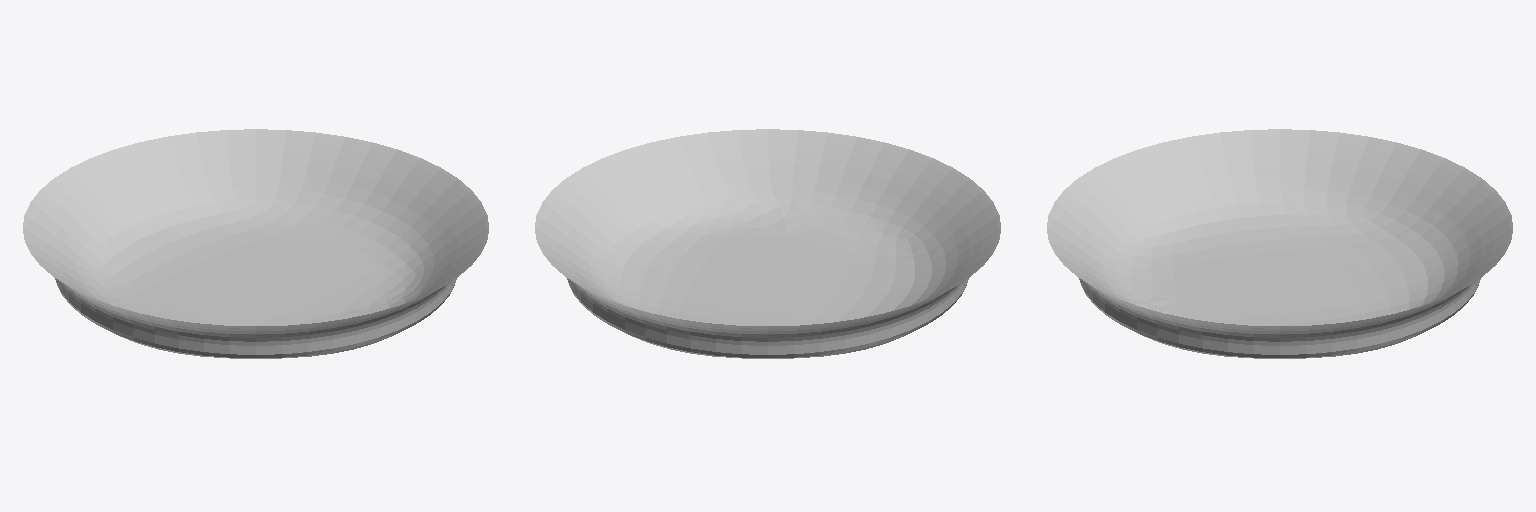
File: deepPlate.obj
3 renders of one model, left to right at view 1: azimuth 30°, elevation 25°; view 2: azimuth 150°, elevation 25°; view 3: azimuth 270°, elevation 25°, orthographic.
Parts seen in each view (by area): view 1: Plato; view 2: Plato; view 3: Plato.
Boxes of the visible parts, <box> form: Plato: <box>23,129,488,358</box>; Plato: <box>535,129,1000,358</box>; Plato: <box>1047,129,1512,358</box>.
Bounding box in the file's own units: 0.934 × 0.1243 × 0.934.